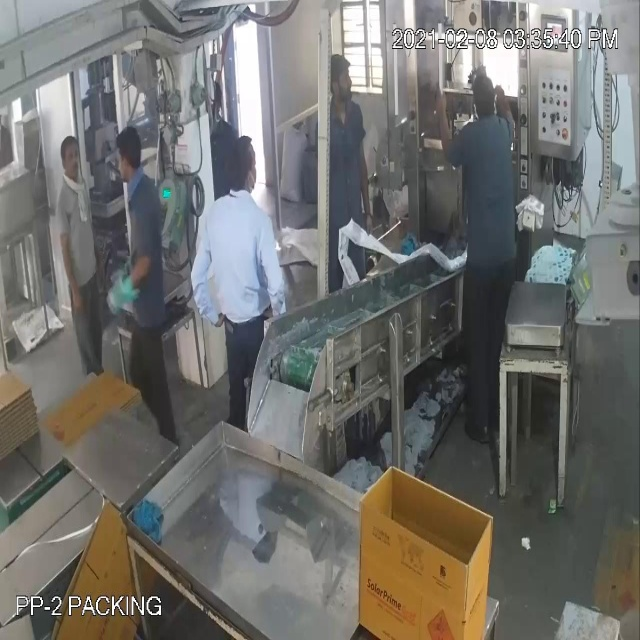Guantes: (102, 244, 147, 332)
Sin_guantes: (186, 220, 221, 346), (348, 125, 383, 247), (252, 238, 291, 326), (54, 220, 89, 304), (429, 63, 452, 172), (493, 79, 521, 158)
